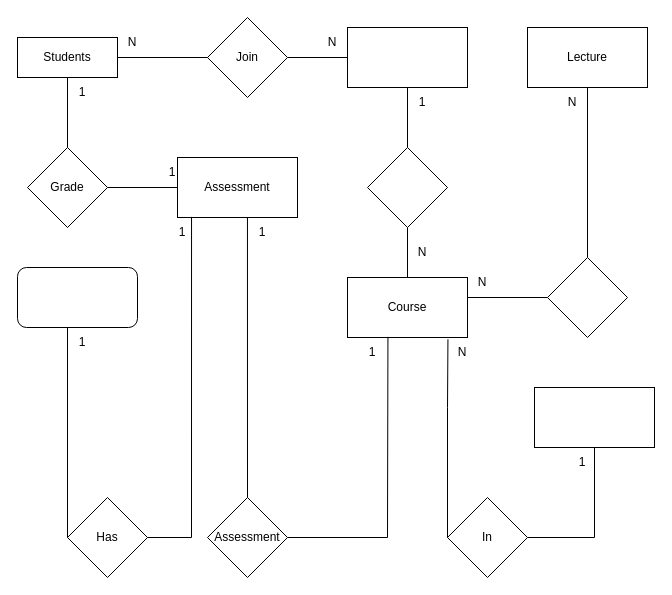
This 672x595 diagram has some shape labels left out. The shapes that lost their labels are listed below. From the top down, each one's centre as x and y in pixels, then its label:
(407,57): Group
(407,187): Enroll
(77,297): Category
(587,297): Teach
(594,417): Semester
